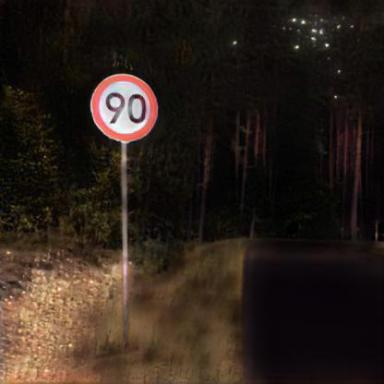Speed_limit_90: (92, 74, 156, 141)
